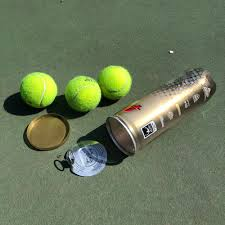tennis_ball: (19, 71, 58, 109), (64, 75, 101, 113), (96, 65, 134, 101)
